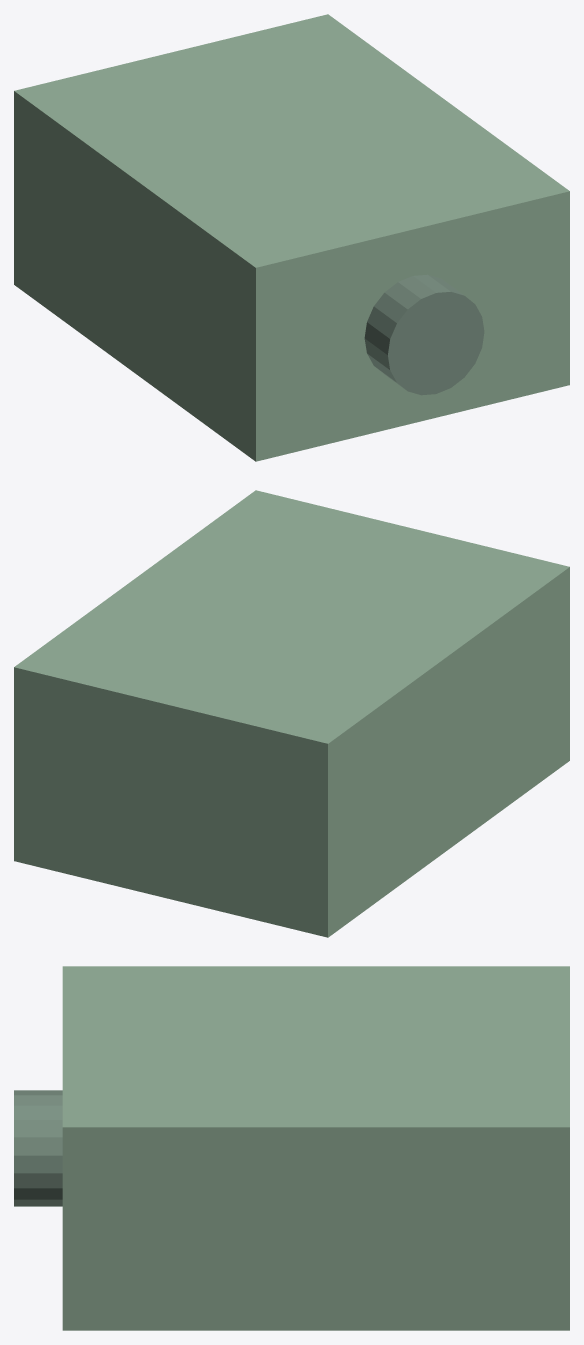
Rendered from product-package-high.glb.
The picture shows the model from 3 angles, top to bottom: view 1: azimuth 30°, elevation 25°; view 2: azimuth 150°, elevation 25°; view 3: azimuth 270°, elevation 25°; orthographic projection. The views are drawn at different scales.
Visible parts, largest first — view 1: package-body, cap; view 2: package-body; view 3: package-body, cap.
Boxes of the visible parts, box(x1,y1,x2,y2) form: package-body: box(14, 14, 569, 461); cap: box(364, 274, 484, 395); package-body: box(14, 490, 569, 937); package-body: box(62, 966, 569, 1330); cap: box(14, 1090, 62, 1206).
Bounding box in the file's own units: 0.78 × 0.48 × 1.14.
